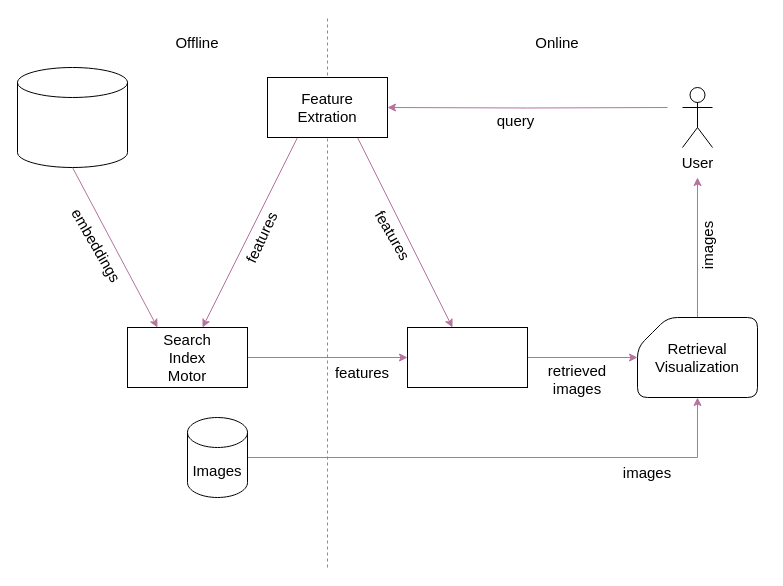
This 783x586 diagram has some shape labels left out. Each missing label, with the box of its shape:
Images Embeddings: (16, 66, 128, 168)
Similarity Measurement: (406, 326, 528, 388)
